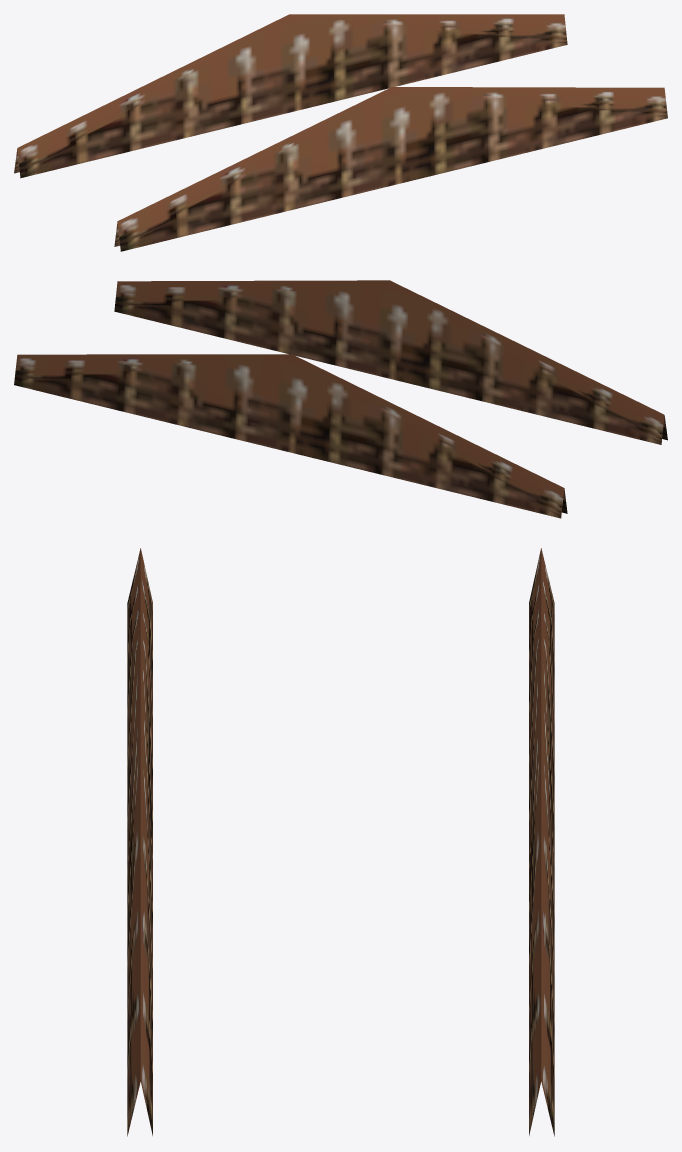
Rendered from cerca_de_madeira_base.glb.
3 renders of one model, top to bottom at view 1: azimuth 30°, elevation 25°; view 2: azimuth 150°, elevation 25°; view 3: azimuth 270°, elevation 25°, orthographic. The views are drawn at different scales.
Visible parts, largest first — view 1: MeshRoot; view 2: MeshRoot; view 3: MeshRoot.
Part boxes in pixels (bbox=[...]): MeshRoot: bbox=[14, 14, 667, 251]; MeshRoot: bbox=[14, 280, 667, 518]; MeshRoot: bbox=[127, 548, 554, 1136].
Size of the model in its own units: 4.78 by 0.7969 by 1.62.
1 material, 1 textured.
